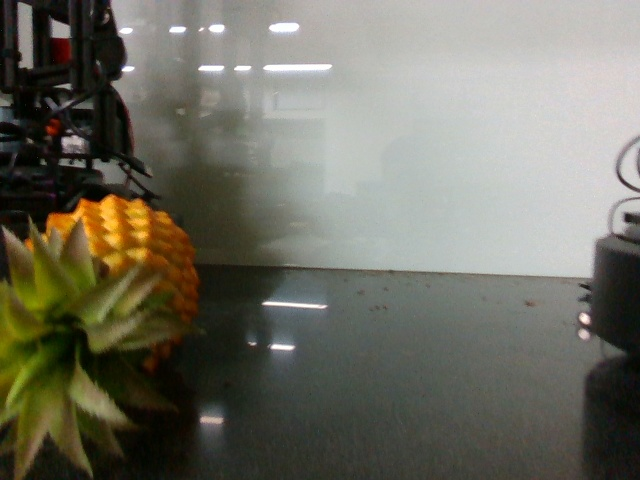pineapple: (3, 194, 199, 480)
